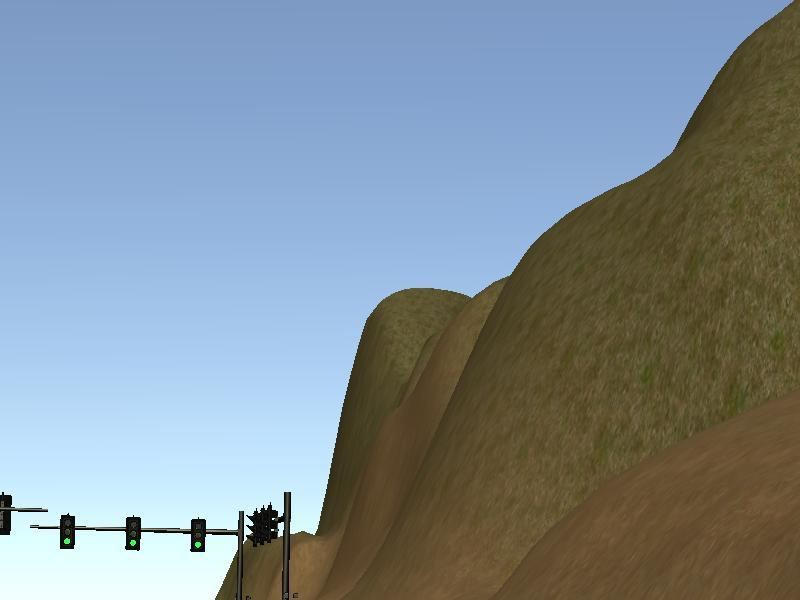Green: (190, 519, 206, 552), (126, 517, 142, 550), (60, 515, 76, 548)
